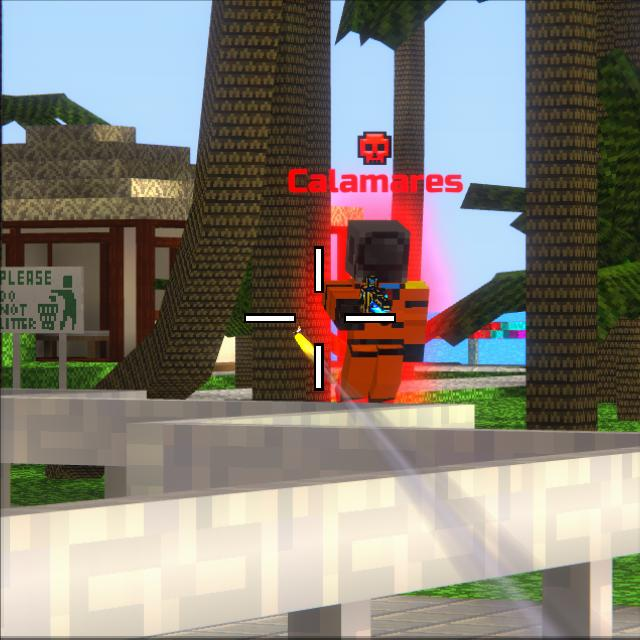Enemy: (320, 223, 429, 404)
